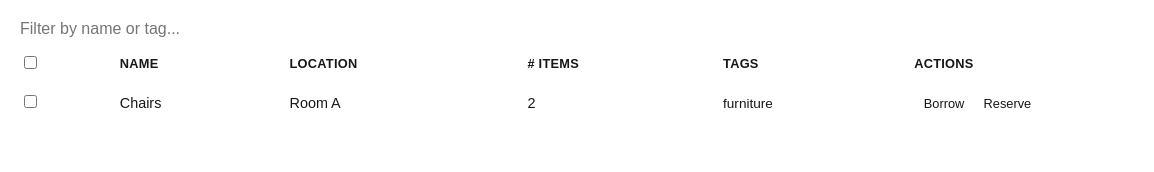
Test: flags partial availability when fewer items resolve than the family total
Step 1. Click the checkbox named "Add Chairs to cart" → (30,102), box [24,95,37,108]
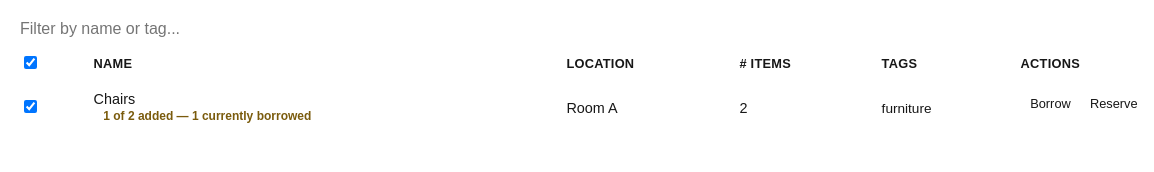
Expected: the text "1 of 2 added — 1 currently borrowed" is shown, [94,107,321,126]
